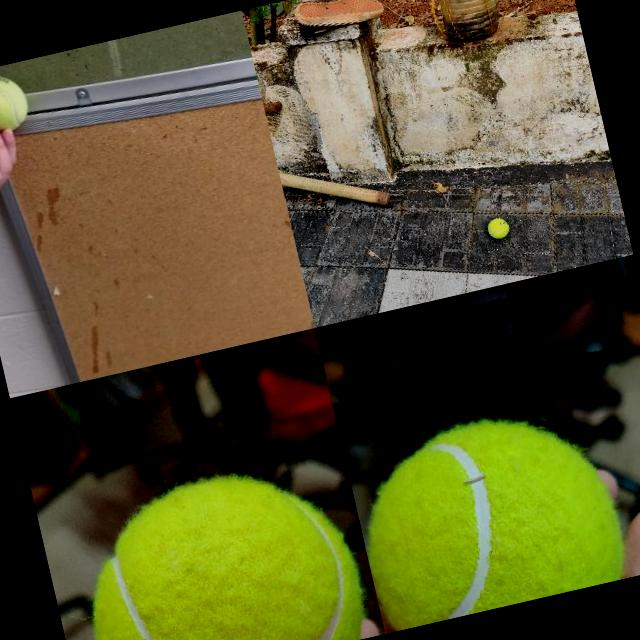tennis-ball: (344, 396, 632, 632), (66, 451, 371, 640), (0, 68, 32, 137), (485, 216, 511, 240)
